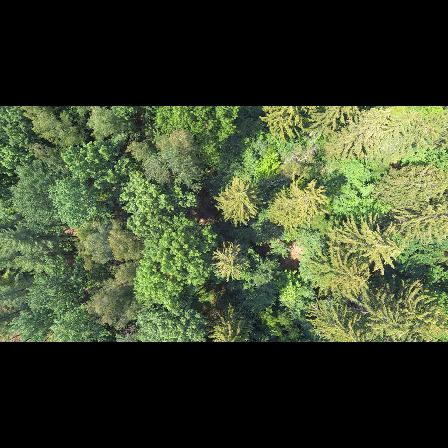Dead: (287, 136, 318, 164)
